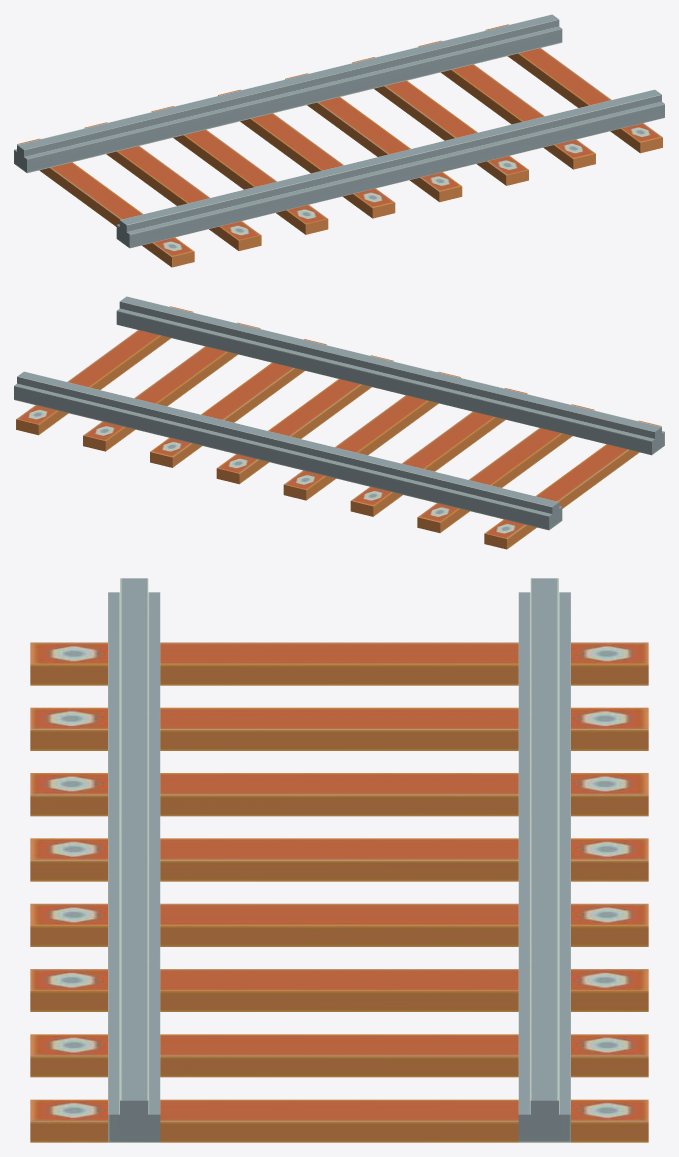
Rendered from rail.glb.
3 renders of one model, top to bottom at view 1: azimuth 30°, elevation 25°; view 2: azimuth 150°, elevation 25°; view 3: azimuth 270°, elevation 25°, orthographic. The views are drawn at different scales.
Parts seen in each view (by area): view 1: Rail.001; view 2: Rail.001; view 3: Rail.001.
Part boxes in pixels (x1=…): Rail.001: x1=14, y1=14, x2=664, y2=267; Rail.001: x1=14, y1=296, x2=664, y2=549; Rail.001: x1=30, y1=578, x2=648, y2=1142.
Bounding box in the file's own units: 2 × 0.1125 × 1.
1 material, 1 textured.
